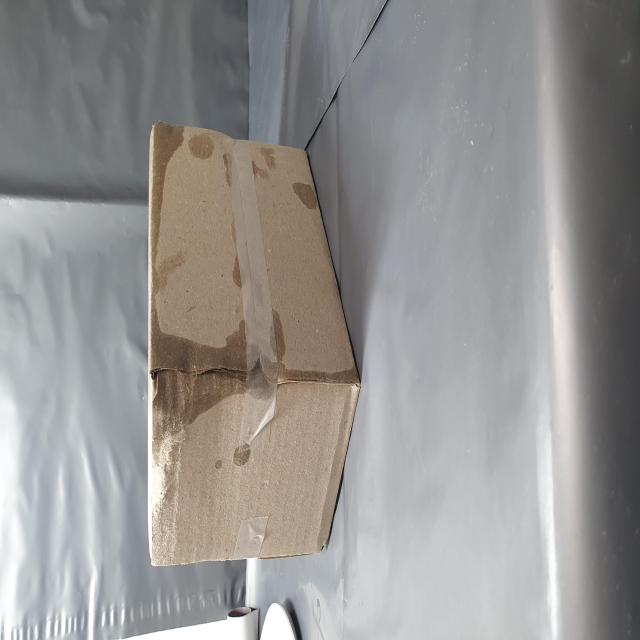wet: (100, 240, 184, 454)
